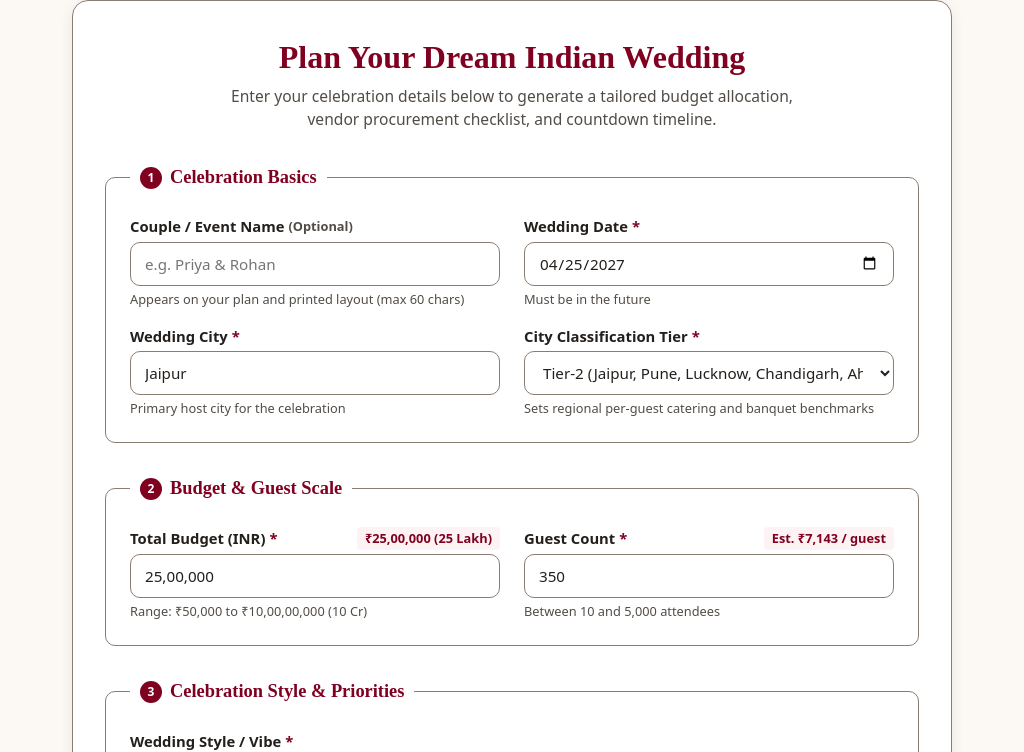
Scenario: IntakeForm Component › validates budget range and links error via aria-describedby
// Enter budget below min (₹50,000)
Replace the text in the field labelled "Total Budget (INR) *" with "10000" at (315, 576), box [130,554,500,598]
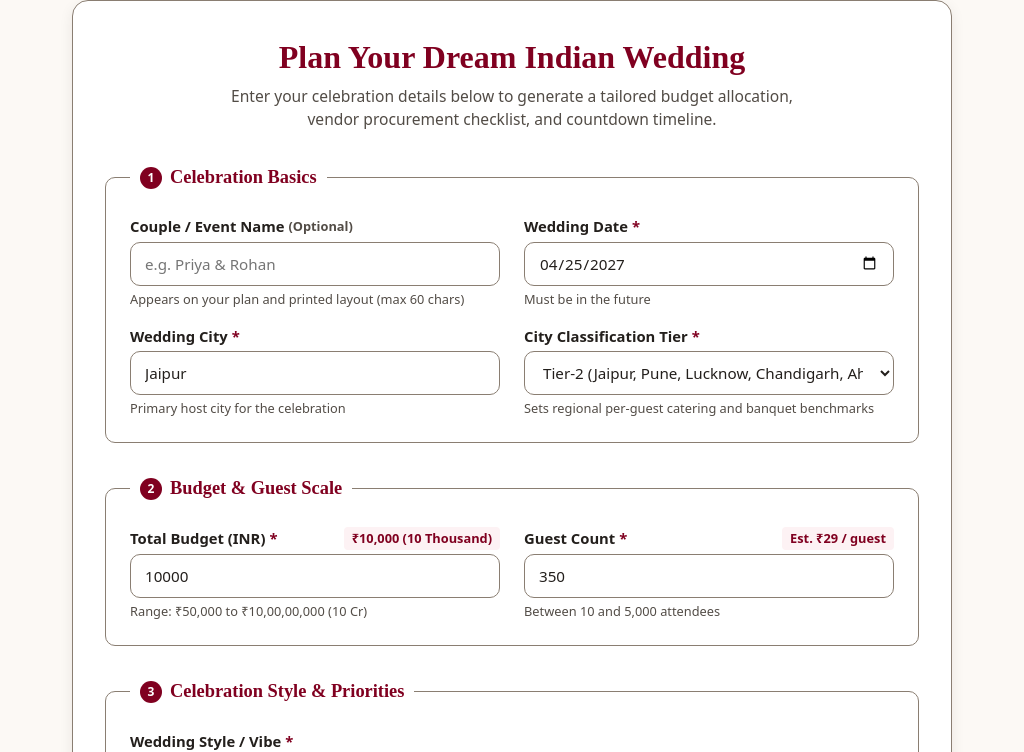
Leave the field labelled "Total Budget (INR) *", box [130,554,500,598]
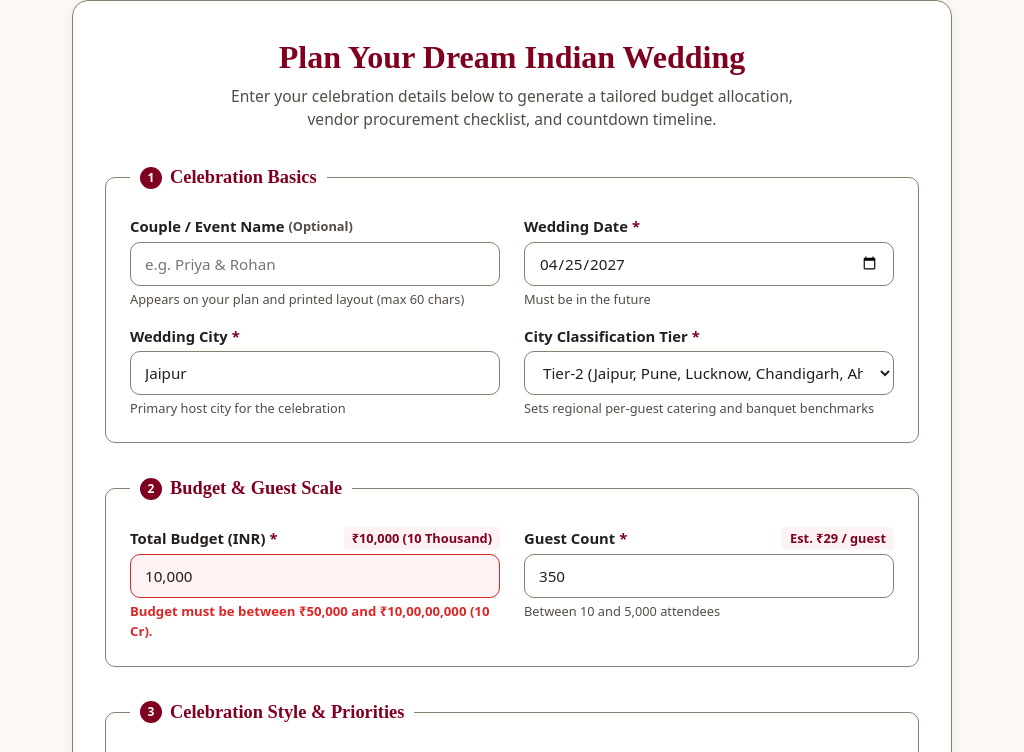
expect the text "Budget must be between ₹50,000 and ₹10,00,00,000 (10 Cr)." is shown: met, box [130,602,500,642]
// Correct to valid budget
Replace the text in the field labelled "Total Budget (INR) *" with "1500000" at (315, 576), box [130,554,500,598]
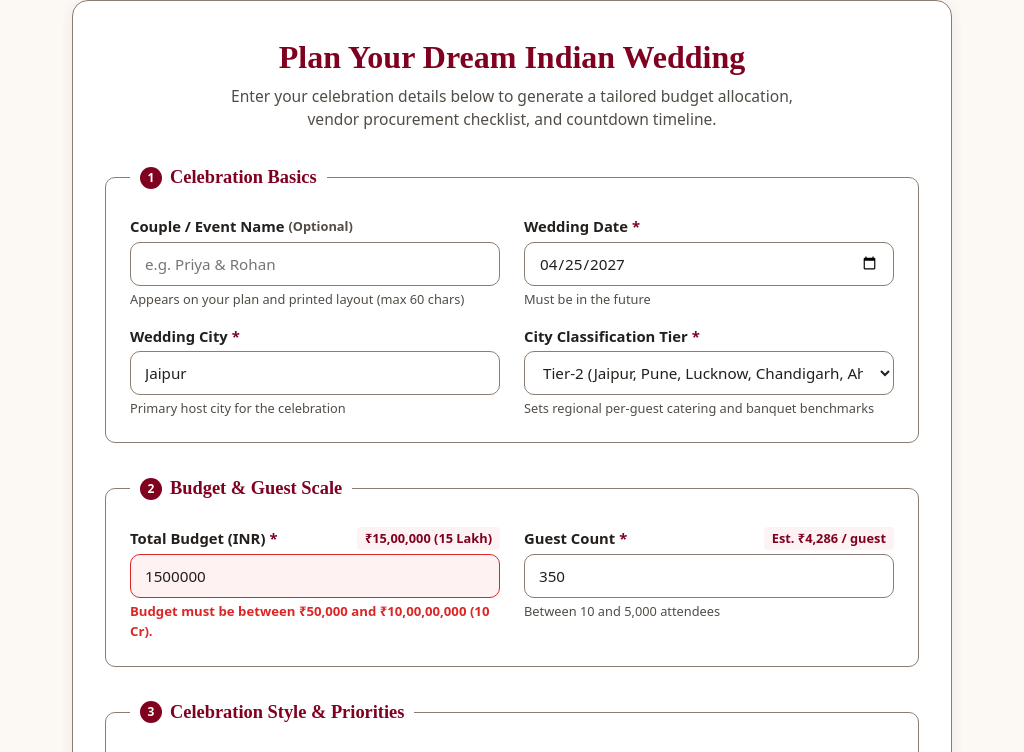
Leave the field labelled "Total Budget (INR) *", box [130,554,500,598]
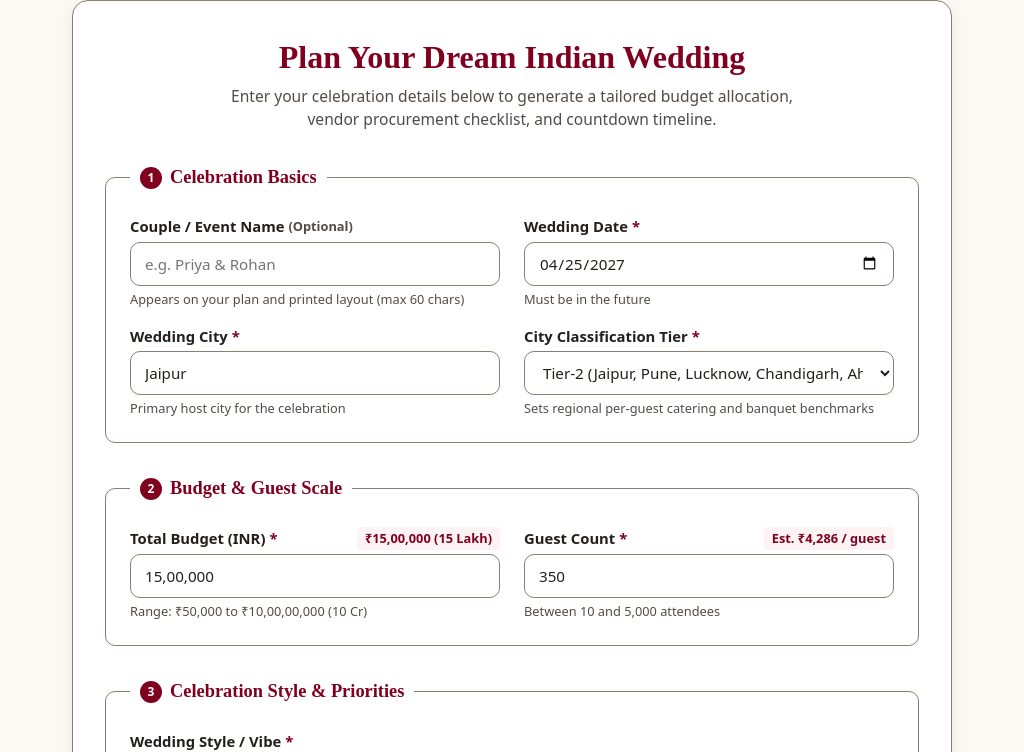
expect the text "Budget must be between ₹50,000 and ₹10,00,00,000" is gone: met
